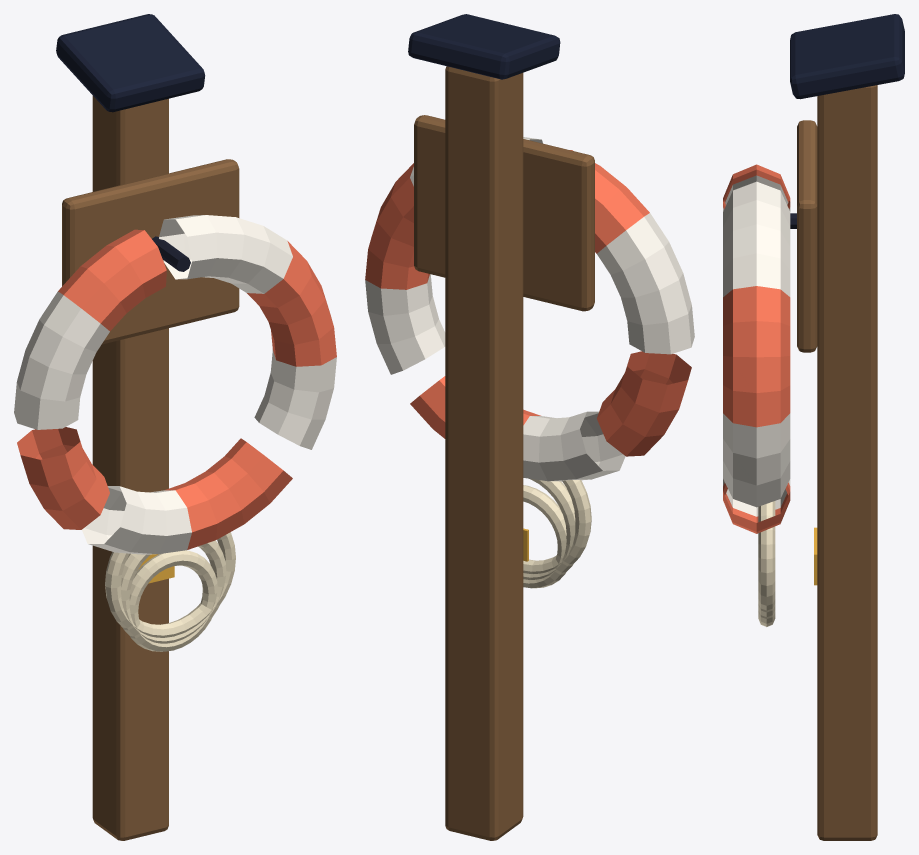
File: life_ring_post.glb
3 renders of one model, left to right at view 1: azimuth 30°, elevation 25°; view 2: azimuth 150°, elevation 25°; view 3: azimuth 270°, elevation 25°, orthographic. The views are drawn at different scales.
Visible parts, largest first — view 1: post, board, cap, ringseg3, ringseg1, ringseg6, ringseg4, ringseg2, ringseg0, ringseg5, ringseg7, rope2 (+3 smaller); view 2: post, board, ringseg3, cap, ringseg4, ringseg5, ringseg7, ringseg0, ringseg2, rope0, rope2, ringseg6 (+1 smaller); view 3: post, ringseg0, cap, ringseg1, ringseg7, board, rope0, ringseg6, ringseg2, ringseg5, ringseg3.
Part boxes in pixels (box(x1,y1,x2,y2)): post: box(92, 95, 168, 840); board: box(62, 159, 239, 344); cap: box(56, 14, 205, 112); ringseg3: box(14, 291, 109, 429); ringseg1: box(159, 215, 292, 293); ringseg6: box(165, 438, 292, 549); ringseg4: box(17, 427, 109, 529); ringseg2: box(58, 229, 166, 331); ringseg0: box(247, 241, 336, 366); ringseg5: box(82, 486, 191, 554); ringseg7: box(254, 350, 336, 449); rope2: box(129, 550, 217, 651); post: box(445, 66, 523, 840); board: box(414, 115, 594, 311); ringseg3: box(597, 213, 694, 354); cap: box(408, 14, 560, 79); ringseg4: box(597, 351, 691, 456); ringseg5: box(523, 411, 625, 481); ringseg7: box(365, 274, 445, 374); ringseg0: box(365, 163, 429, 289); ringseg2: box(570, 150, 649, 253); rope0: box(523, 480, 591, 573); rope2: box(523, 485, 566, 588); ringseg6: box(410, 376, 540, 438); post: box(817, 85, 877, 840); ringseg0: box(723, 286, 790, 427); cap: box(790, 14, 904, 99); ringseg1: box(723, 181, 790, 296); ringseg7: box(723, 413, 790, 507); board: box(797, 120, 817, 352); rope0: box(758, 501, 775, 610); ringseg6: box(723, 482, 790, 533); ringseg2: box(723, 164, 790, 208); ringseg5: box(723, 479, 790, 516); ringseg3: box(723, 175, 790, 211).
Bounding box in the file's own units: 1.1 × 2.61 × 0.5406.
